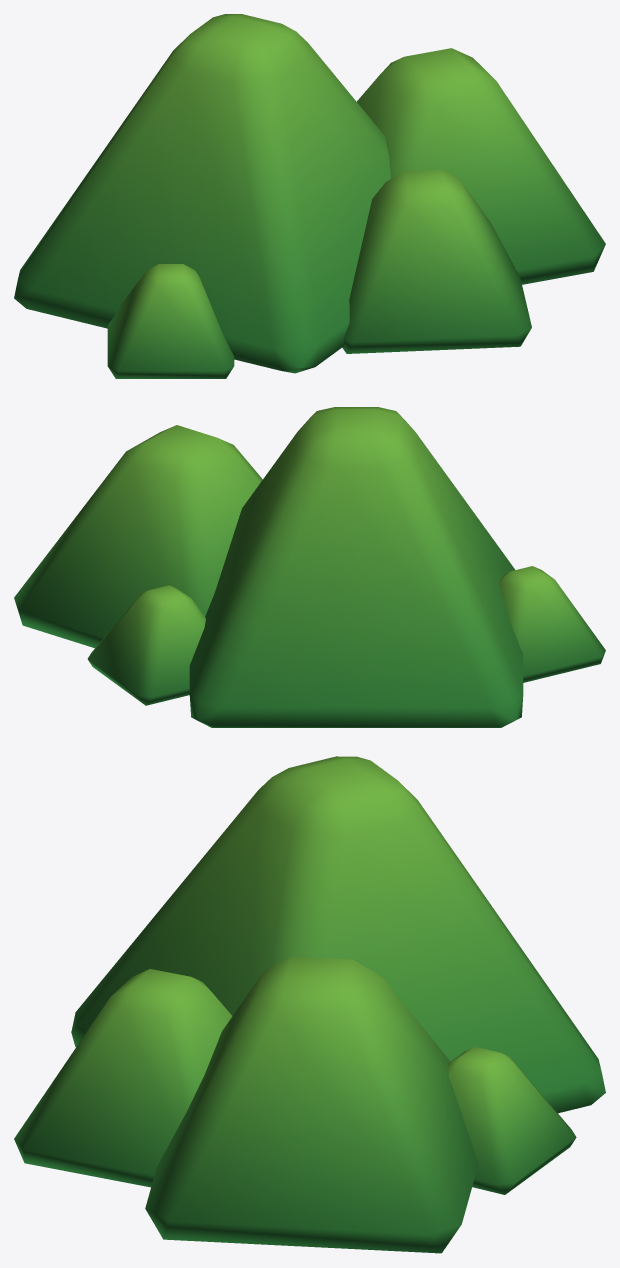
The model's file is Bush_4_E_Color1.glb.
3 renders of one model, top to bottom at view 1: azimuth 30°, elevation 25°; view 2: azimuth 150°, elevation 25°; view 3: azimuth 270°, elevation 25°, orthographic. The views are drawn at different scales.
Parts seen in each view (by area): view 1: Bush_4_E_Color1; view 2: Bush_4_E_Color1; view 3: Bush_4_E_Color1.
Boxes of the visible parts, x1,y1,x2,y2 form: Bush_4_E_Color1: (14,14,605,378); Bush_4_E_Color1: (14,407,605,727); Bush_4_E_Color1: (14,756,605,1253).
Size of the model in its own units: 2.7 by 1.3 by 2.28.
1 material, 1 textured.
